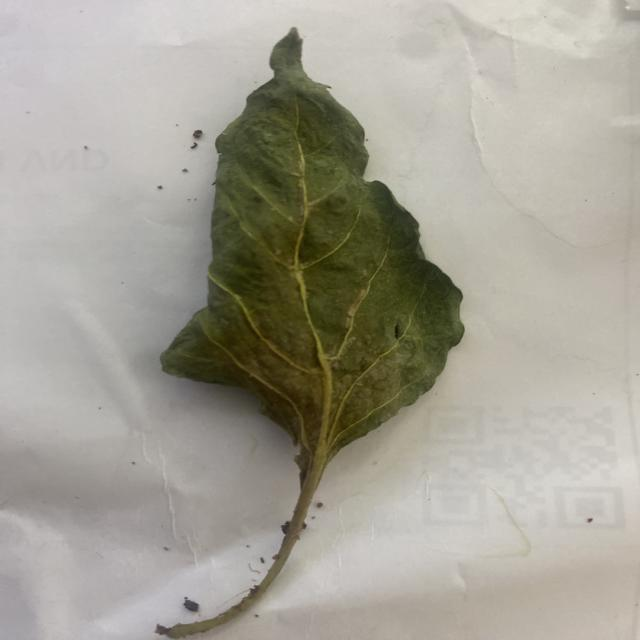Leaf: (157, 26, 466, 460)
